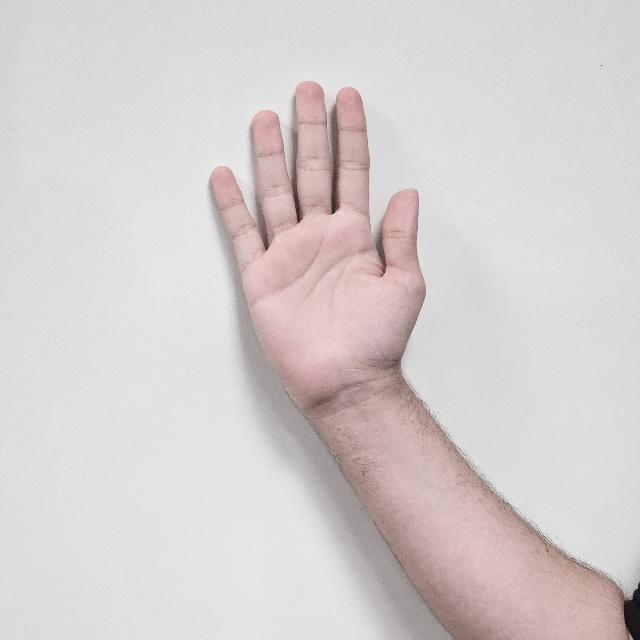X: (210, 80, 428, 462)
